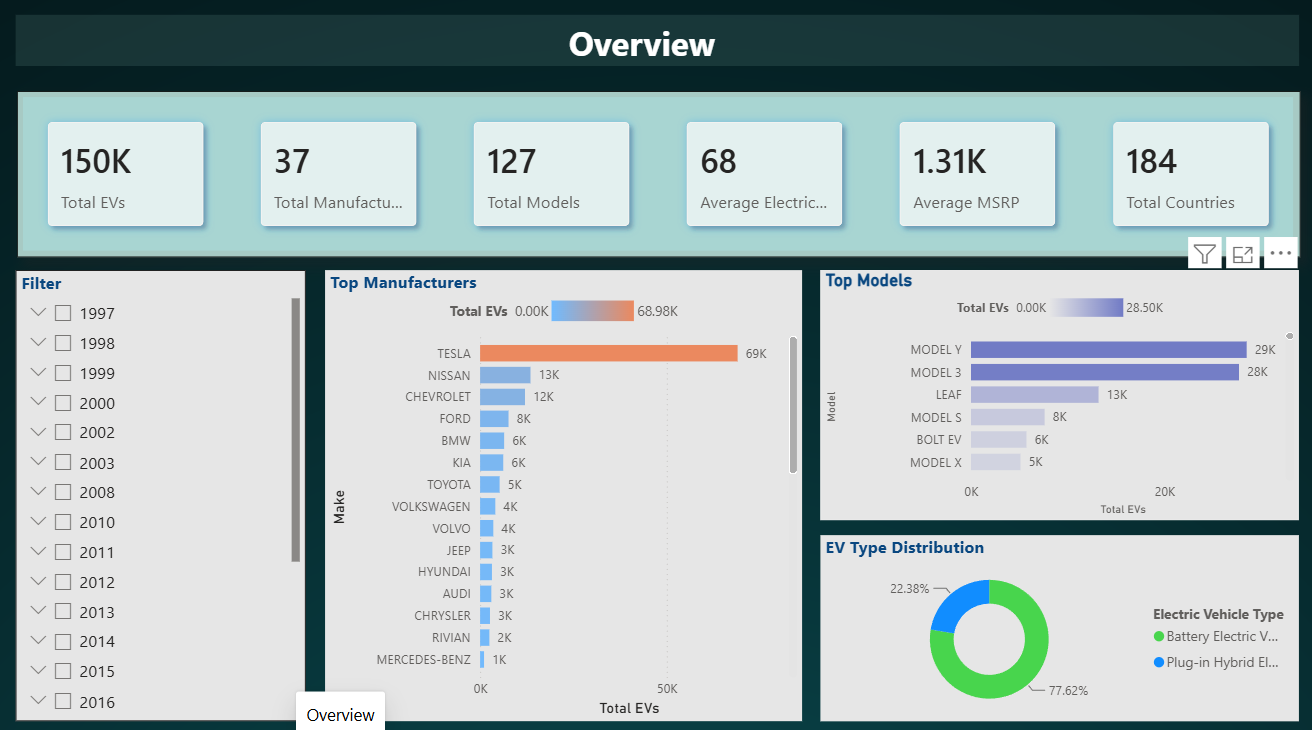

What the dashboard file says about the page in this screenshot:
{"tool":"powerbi","page":{"name":"Overview","canvas":[1280,720],"ordinal":1},"visuals":[{"type":"cardVisual","fields":{"Data":["Fact Table.Total EVs","Electric Vehicle Population_cleaned.Total Manufacturers","Electric Vehicle Population_cleaned.Total Models","Fact Table.Average Electric Range","Fact Table.Average MSRP","Electric Vehicle Population_cleaned.Total Counties"]},"box":[17.5,94.4,1246.8,161.7],"z":0},{"type":"shape","box":[16.2,20.2,1246.8,49.9],"z":1000},{"type":"textbox","box":[548.6,20.2,184.7,53.9],"z":2000},{"type":"donutChart","title":"EV Type Distribution","fields":{"Category":["Electric Vehicle Population_cleaned.Electric Vehicle Type"],"Y":["CountNonNull(Electric Vehicle Population_cleaned.VIN (1-10))"]},"box":[798,525.7,465,180.6],"z":3000},{"type":"clusteredBarChart","title":"Top Manufacturers","fields":{"Category":["Electric Vehicle Population_cleaned.Make"],"Y":["CountNonNull(Electric Vehicle Population_cleaned.VIN (1-10))"]},"box":[316.8,268.2,463.7,438.1],"z":4000},{"type":"slicer","title":"Filter","fields":{"Values":["Electric Vehicle Population_cleaned.Model Year","Electric Vehicle Population_cleaned.County","Electric Vehicle Population_cleaned.Electric Vehicle Type","Electric Vehicle Population_cleaned.Make"]},"box":[16.2,268.2,281.7,438.1],"z":5000},{"type":"clusteredBarChart","title":"Top Models","fields":{"Category":["Electric Vehicle Population_cleaned.Model"],"Y":["CountNonNull(Electric Vehicle Population_cleaned.VIN (1-10))"]},"box":[798,268.2,465,242.6],"z":6000}]}

Visuals, with their boxes in screenshot pixels (x1, y1, x2, y2):
cardVisual - Fact Table.Total EVs x Electric Vehicle Population_cleaned.Total Manufacturers: [8, 84, 1302, 252]
shape: [7, 7, 1301, 59]
textbox: [559, 7, 751, 63]
"EV Type Distribution" donutChart: [818, 532, 1301, 720]
"Top Manufacturers" clusteredBarChart: [319, 265, 800, 720]
"Filter" slicer: [7, 265, 299, 720]
"Top Models" clusteredBarChart: [818, 265, 1301, 517]
